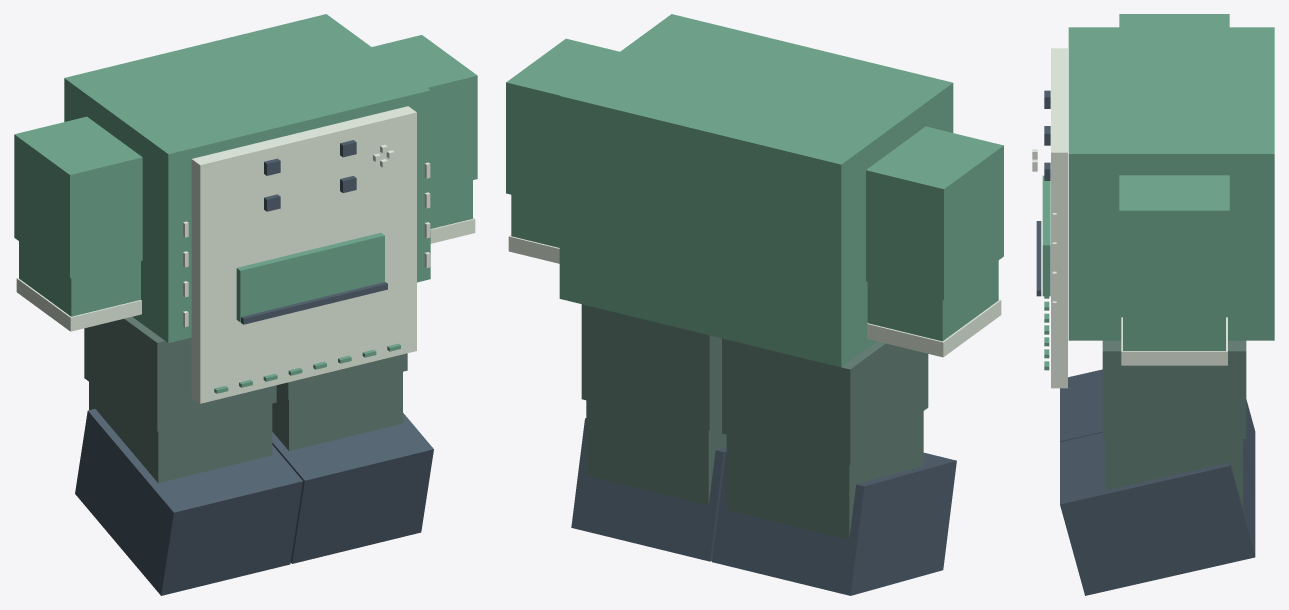
File: chef-emerald.glb
3 views of the same model, side by side, from view 1: azimuth 30°, elevation 25°; view 2: azimuth 150°, elevation 25°; view 3: azimuth 270°, elevation 25° (orthographic). The views are drawn at different scales.
Parts seen in each view (by area): view 1: apron, jacket, shoe-Right, upper-sleeve-Right, shoe-Left, trouser-Right, lower-trouser-Right, upper-sleeve-Left, apron-pocket, lower-trouser-Left, lower-sleeve-Right, trouser-Left (+4 smaller); view 2: jacket, upper-sleeve-Right, trouser-Right, shoe-Right, trouser-Left, lower-trouser-Right, lower-trouser-Left, upper-sleeve-Left, shoe-Left, lower-sleeve-Right, cuff-Right, lower-sleeve-Left (+1 smaller); view 3: jacket, shoe-Left, upper-sleeve-Left, trouser-Left, apron, lower-trouser-Left, lower-sleeve-Left, shoe-Right, cuff-Left, upper-sleeve-Right, apron-pocket, design-chef-apron-pocket-binding.
Part boxes in pixels (x1,y1,x2,y2): apron: (191, 106, 416, 403); jacket: (64, 14, 430, 342); shoe-Right: (75, 409, 302, 595); upper-sleeve-Right: (14, 116, 142, 278); shoe-Left: (272, 413, 433, 563); trouser-Right: (84, 317, 276, 431); lower-trouser-Right: (89, 382, 272, 482); upper-sleeve-Left: (372, 35, 477, 190); apron-pocket: (236, 233, 384, 322); lower-trouser-Left: (272, 372, 402, 451); lower-sleeve-Right: (19, 241, 140, 316); trouser-Left: (276, 353, 407, 399); jacket: (559, 14, 953, 367); upper-sleeve-Right: (866, 126, 1003, 300); trouser-Right: (722, 338, 928, 464); shoe-Right: (712, 452, 956, 595); trouser-Left: (581, 304, 721, 430); lower-trouser-Right: (726, 411, 923, 539); lower-trouser-Left: (586, 400, 726, 505); upper-sleeve-Left: (506, 38, 619, 206); shoe-Left: (571, 418, 726, 561); lower-sleeve-Right: (867, 260, 998, 341); cuff-Right: (867, 299, 1001, 357); lower-sleeve-Left: (511, 195, 559, 247); jacket: (1068, 27, 1274, 340); shoe-Left: (1060, 432, 1255, 595); upper-sleeve-Left: (1119, 175, 1229, 312); trouser-Left: (1102, 340, 1246, 438); apron: (1051, 48, 1067, 388); lower-trouser-Left: (1106, 439, 1242, 507); lower-sleeve-Left: (1123, 312, 1225, 350); shoe-Right: (1060, 369, 1255, 493); cuff-Left: (1121, 317, 1227, 365); upper-sleeve-Right: (1119, 14, 1229, 27); apron-pocket: (1042, 175, 1050, 296); design-chef-apron-pocket-binding: (1036, 221, 1041, 296).
Bounding box in the file's own units: 1.07 × 1.13 × 0.559.
